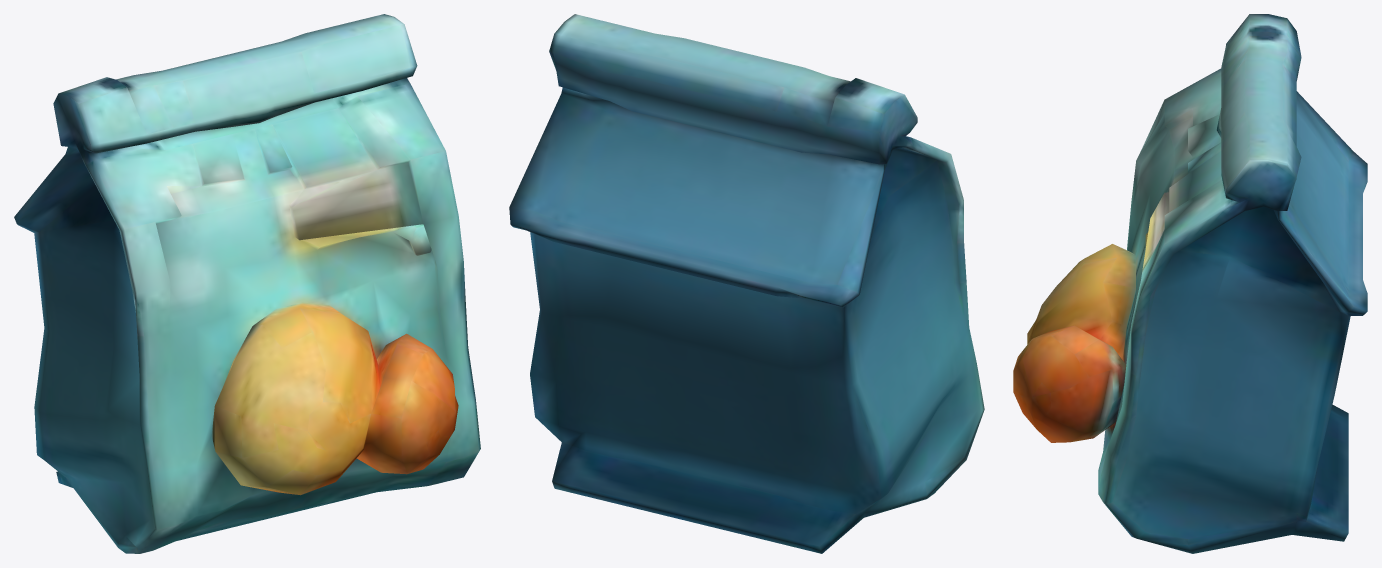
The model's file is chickpeas.glb.
3 views of the same model, side by side, from view 1: azimuth 30°, elevation 25°; view 2: azimuth 150°, elevation 25°; view 3: azimuth 270°, elevation 25° (orthographic). The views are drawn at different scales.
Parts seen in each view (by area): view 1: Chickpeas; view 2: Chickpeas; view 3: Chickpeas.
Part boxes in pixels (x1,y1,x2,y2): Chickpeas: (14, 14, 480, 553); Chickpeas: (509, 14, 984, 553); Chickpeas: (1013, 14, 1367, 553).
Bounding box in the file's own units: 1.2 × 1.45 × 1.16.
Materials: 1 (1 with a texture image).
